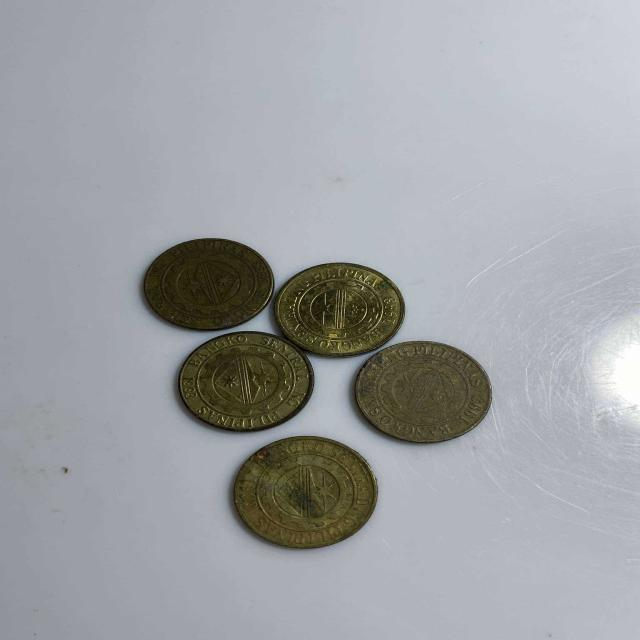25Cent_Old_Back: (233, 441, 378, 547), (351, 344, 493, 438), (180, 335, 310, 434), (278, 264, 399, 355), (144, 240, 266, 329)
